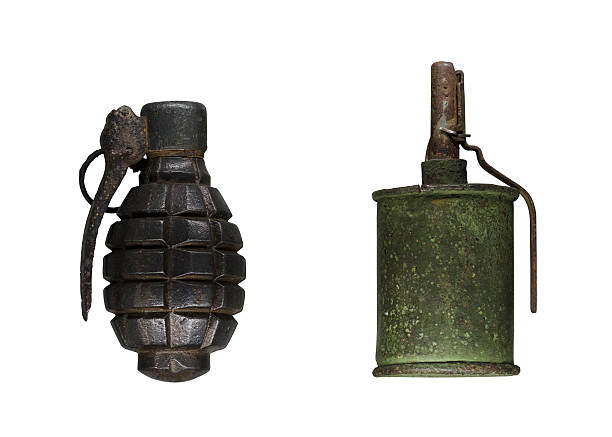e1: (371, 61, 540, 375), (78, 102, 250, 381)
